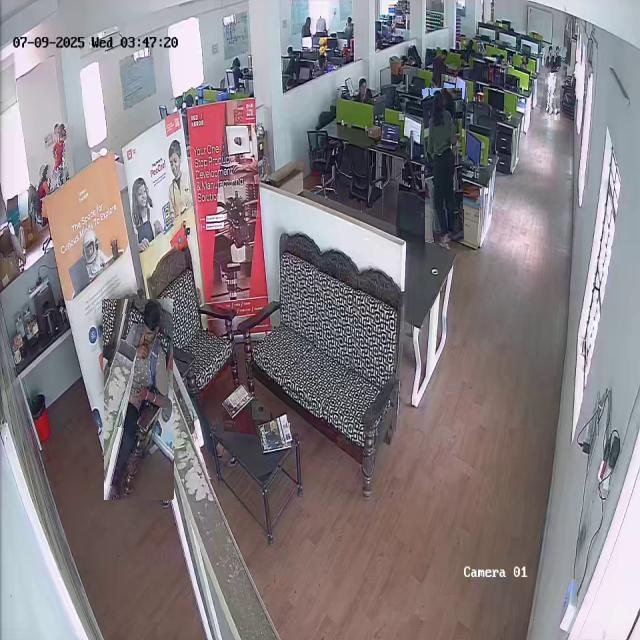person: (103, 299, 174, 500), (424, 88, 463, 243), (542, 45, 563, 120), (49, 122, 74, 181), (32, 164, 58, 218)
